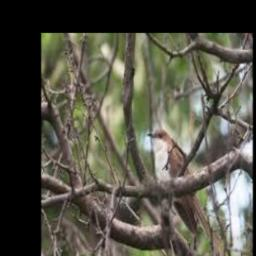Cuckoo: (148, 127, 228, 256)
